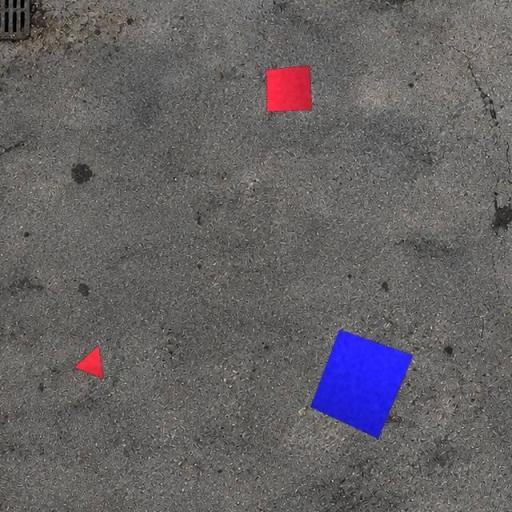BLUE_SQUARE: (310, 329, 414, 439)
RED_SQUARE: (266, 65, 312, 113)
